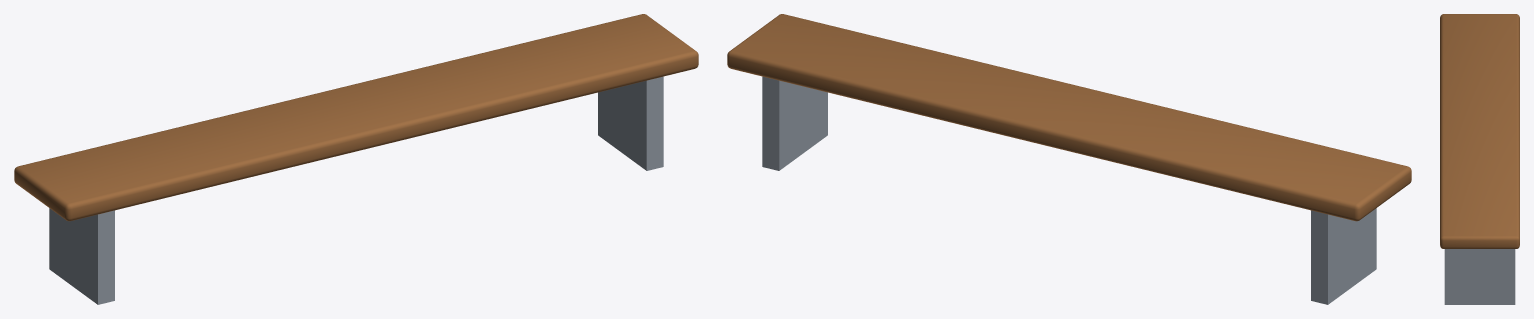
Rendered from bullpen_bench.glb.
3 renders of one model, left to right at view 1: azimuth 30°, elevation 25°; view 2: azimuth 150°, elevation 25°; view 3: azimuth 270°, elevation 25°, orthographic. The views are drawn at different scales.
Parts seen in each view (by area): view 1: bb_bullpen_bench; view 2: bb_bullpen_bench; view 3: bb_bullpen_bench.
Part boxes in pixels (<box>): bb_bullpen_bench: <box>14,14,698,304</box>; bb_bullpen_bench: <box>727,14,1411,304</box>; bb_bullpen_bench: <box>1440,14,1519,304</box>.
Bounding box in the file's own units: 3 × 0.495 × 0.45.
